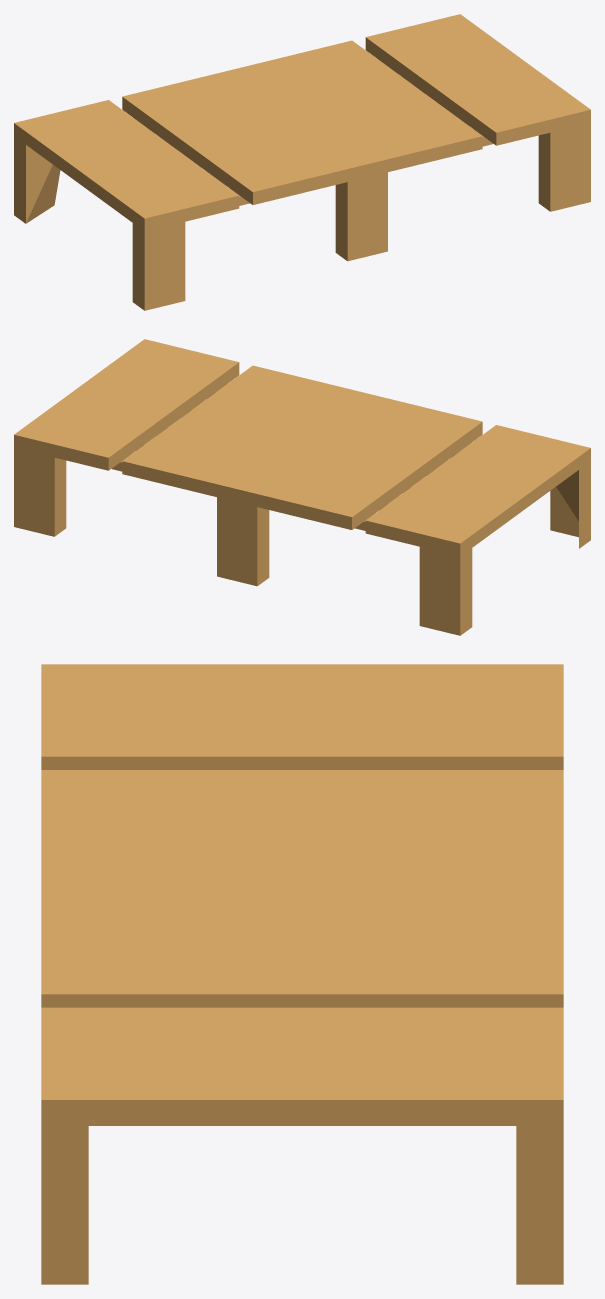
File: Port.dae
The picture shows the model from 3 angles, top to bottom: view 1: azimuth 30°, elevation 25°; view 2: azimuth 150°, elevation 25°; view 3: azimuth 270°, elevation 25°; orthographic projection. The views are drawn at different scales.
Parts seen in each view (by area): view 1: Cube; view 2: Cube; view 3: Cube.
Part boxes in pixels (bbox=[...]): Cube: bbox=[14, 14, 590, 310]; Cube: bbox=[14, 339, 590, 635]; Cube: bbox=[41, 664, 563, 1284].
Bounding box in the file's own units: 1.86 × 0.9444 × 0.368.
